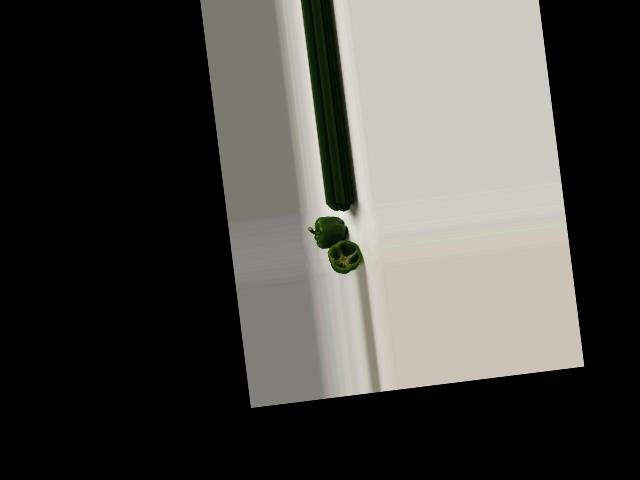bell_pepper: (322, 236, 366, 277)
